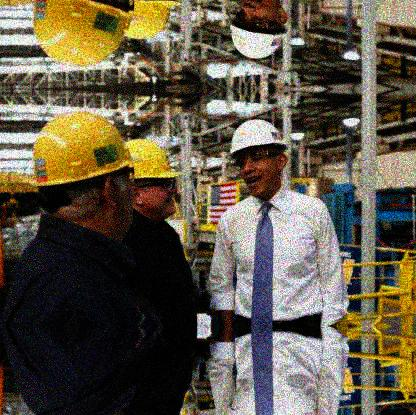helmet: (33, 113, 137, 234), (124, 139, 181, 224), (229, 120, 285, 205), (227, 1, 287, 61)
